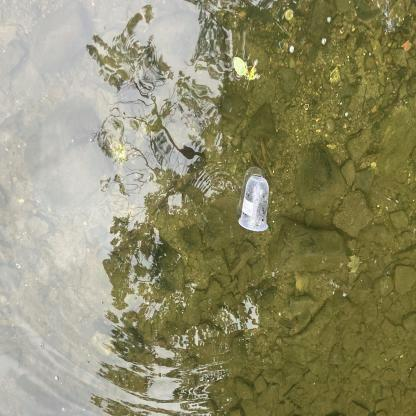Plastic: (236, 175, 275, 235)
